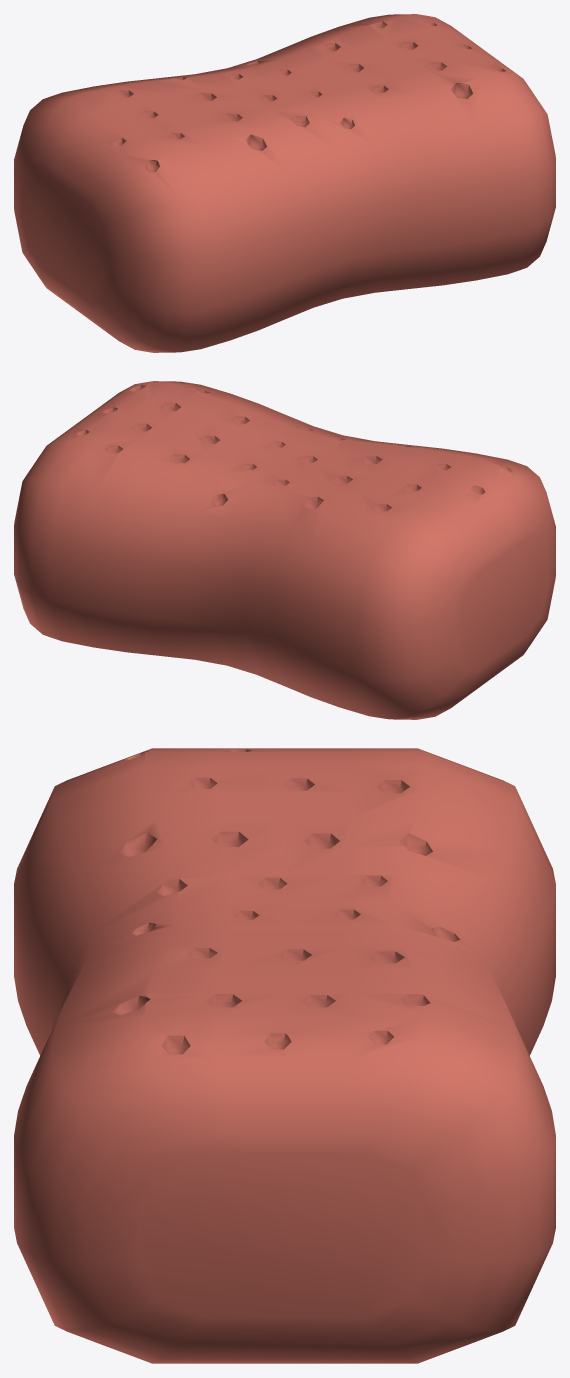
File: sponge.glb
3 views of the same model, one above another, from view 1: azimuth 30°, elevation 25°; view 2: azimuth 150°, elevation 25°; view 3: azimuth 270°, elevation 25° (orthographic). The views are drawn at different scales.
Parts seen in each view (by area): view 1: PART; view 2: PART; view 3: PART.
Part boxes in pixels (left/top/right/bottom): PART: left=14, top=14, right=555, bottom=352; PART: left=14, top=381, right=555, bottom=719; PART: left=14, top=748, right=555, bottom=1363.
Bounding box in the file's own units: 0.1396 × 0.0598 × 0.0893.
